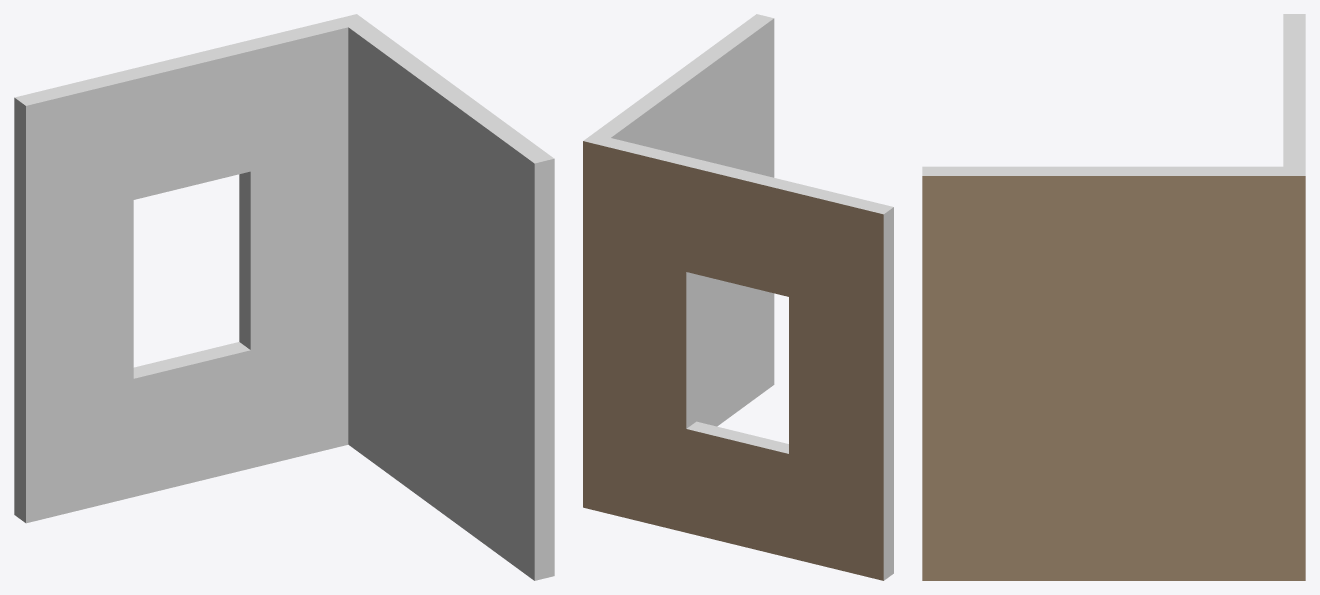
The model's file is Wall2_C2_07.fbx.
3 renders of one model, left to right at view 1: azimuth 30°, elevation 25°; view 2: azimuth 150°, elevation 25°; view 3: azimuth 270°, elevation 25°, orthographic. The views are drawn at different scales.
Parts seen in each view (by area): view 1: Wall2_C2_07; view 2: Wall2_C2_07; view 3: Wall2_C2_07.
Boxes of the visible parts, x1,y1,x2,y2 form: Wall2_C2_07: (14,14,554,580); Wall2_C2_07: (583,14,893,580); Wall2_C2_07: (922,14,1305,580).
Size of the model in its own units: 258 by 300 by 258.
